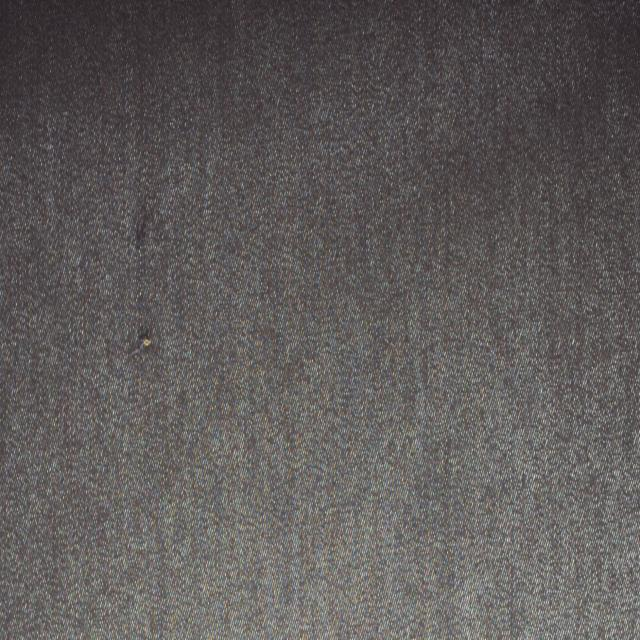Knot: (129, 328, 153, 356)
